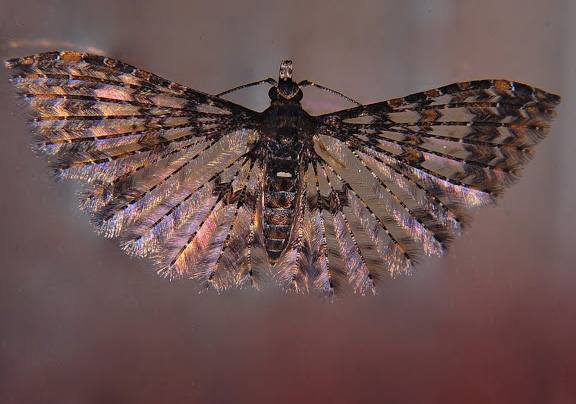Alucitidae: (6, 41, 560, 297)
moth: (8, 43, 562, 299)
